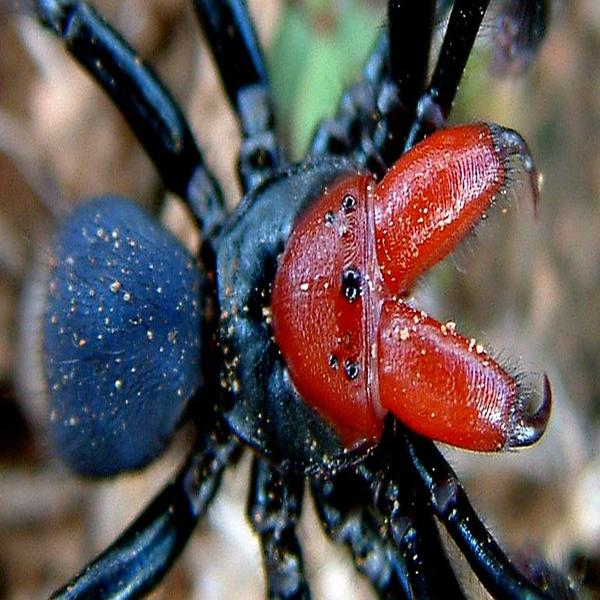Red Headed Mouse Spider: (10, 2, 586, 598)
